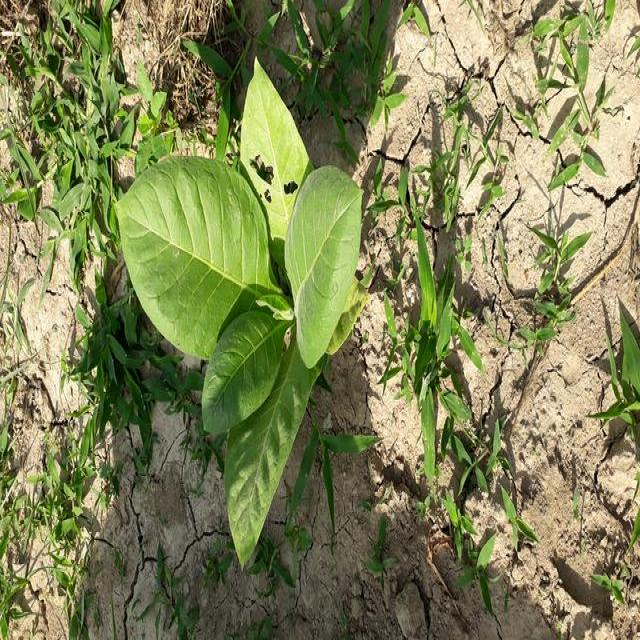crop: (112, 73, 358, 568)
